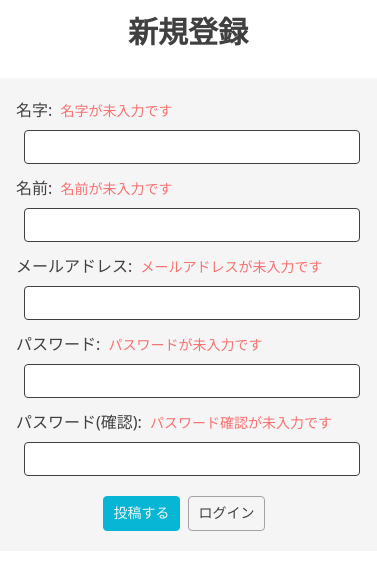
Test case: validation › should show alert when first-name isn't filled in
Type "01" into the field with test id "first-name-input" at {"x": 192, "y": 147}, box [24, 130, 360, 164]
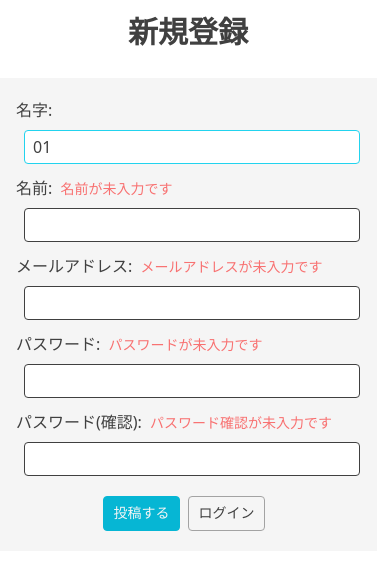
Type "01" into the field with test id "last-name-input" at {"x": 192, "y": 225}, box [24, 208, 360, 242]
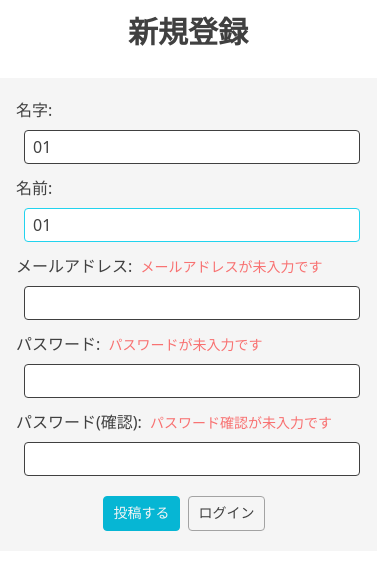
Type "01@test.io" into the field with test id "email-input" at {"x": 192, "y": 303}, box [24, 286, 360, 320]
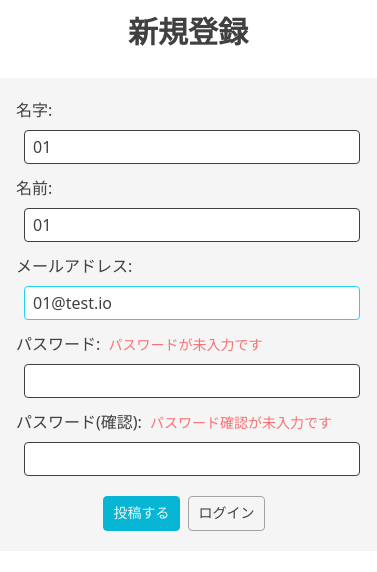
Type "1234" into the password field with test id "password-input" at {"x": 192, "y": 381}, box [24, 364, 360, 398]
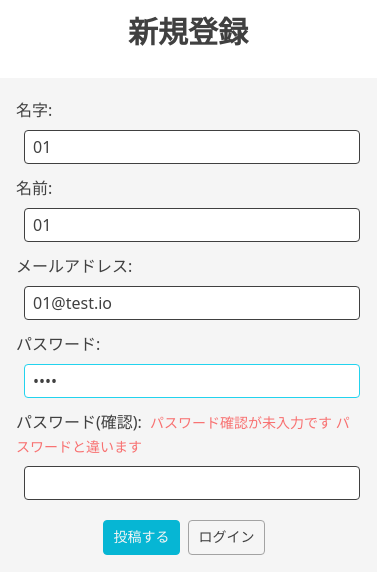
Type "1234" into the password field with test id "password-confirm-input" at {"x": 192, "y": 483}, box [24, 466, 360, 500]
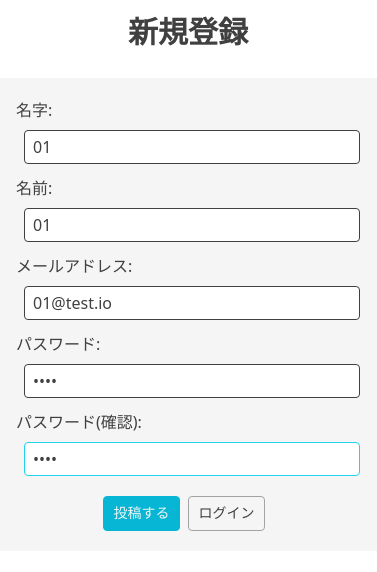
Clear the field with test id "first-name-input" at {"x": 192, "y": 147}, box [24, 130, 360, 164]
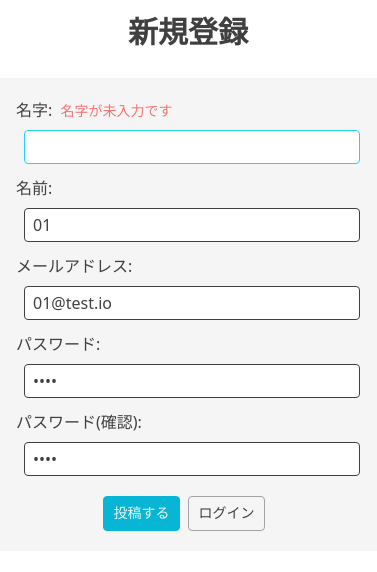
Expected: the text "名字が未入力です" is shown, [60, 101, 172, 120]
